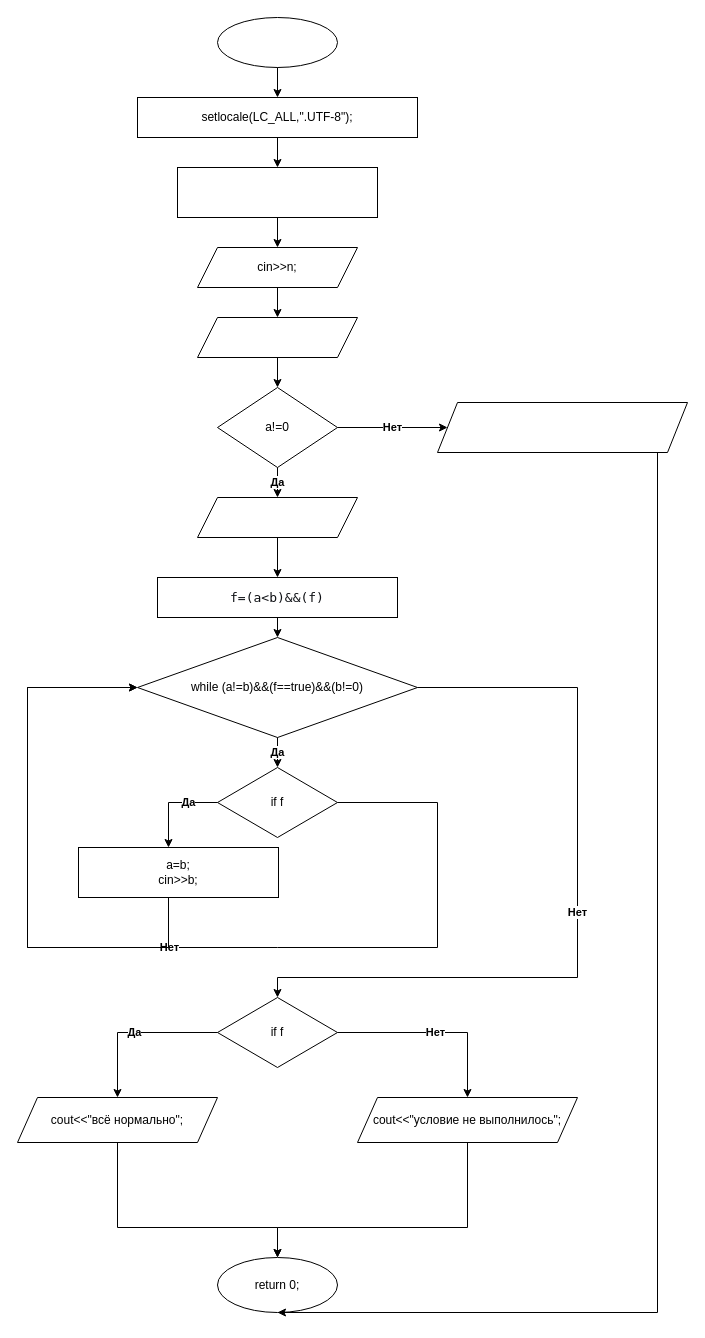
Some shapes in this 705 by 1338 pixel diagram are drawn without their labels. Here are the shapes that lost their labels. From the top down, the centre of each, then its label:
the point at 277,42: Начало
the point at 277,192: int a,b,n; bool f=true;
the point at 277,337: cin>>a;
the point at 562,427: cout<<"Элементы в последовательности отсутствуют";
the point at 277,517: cin>>b;
